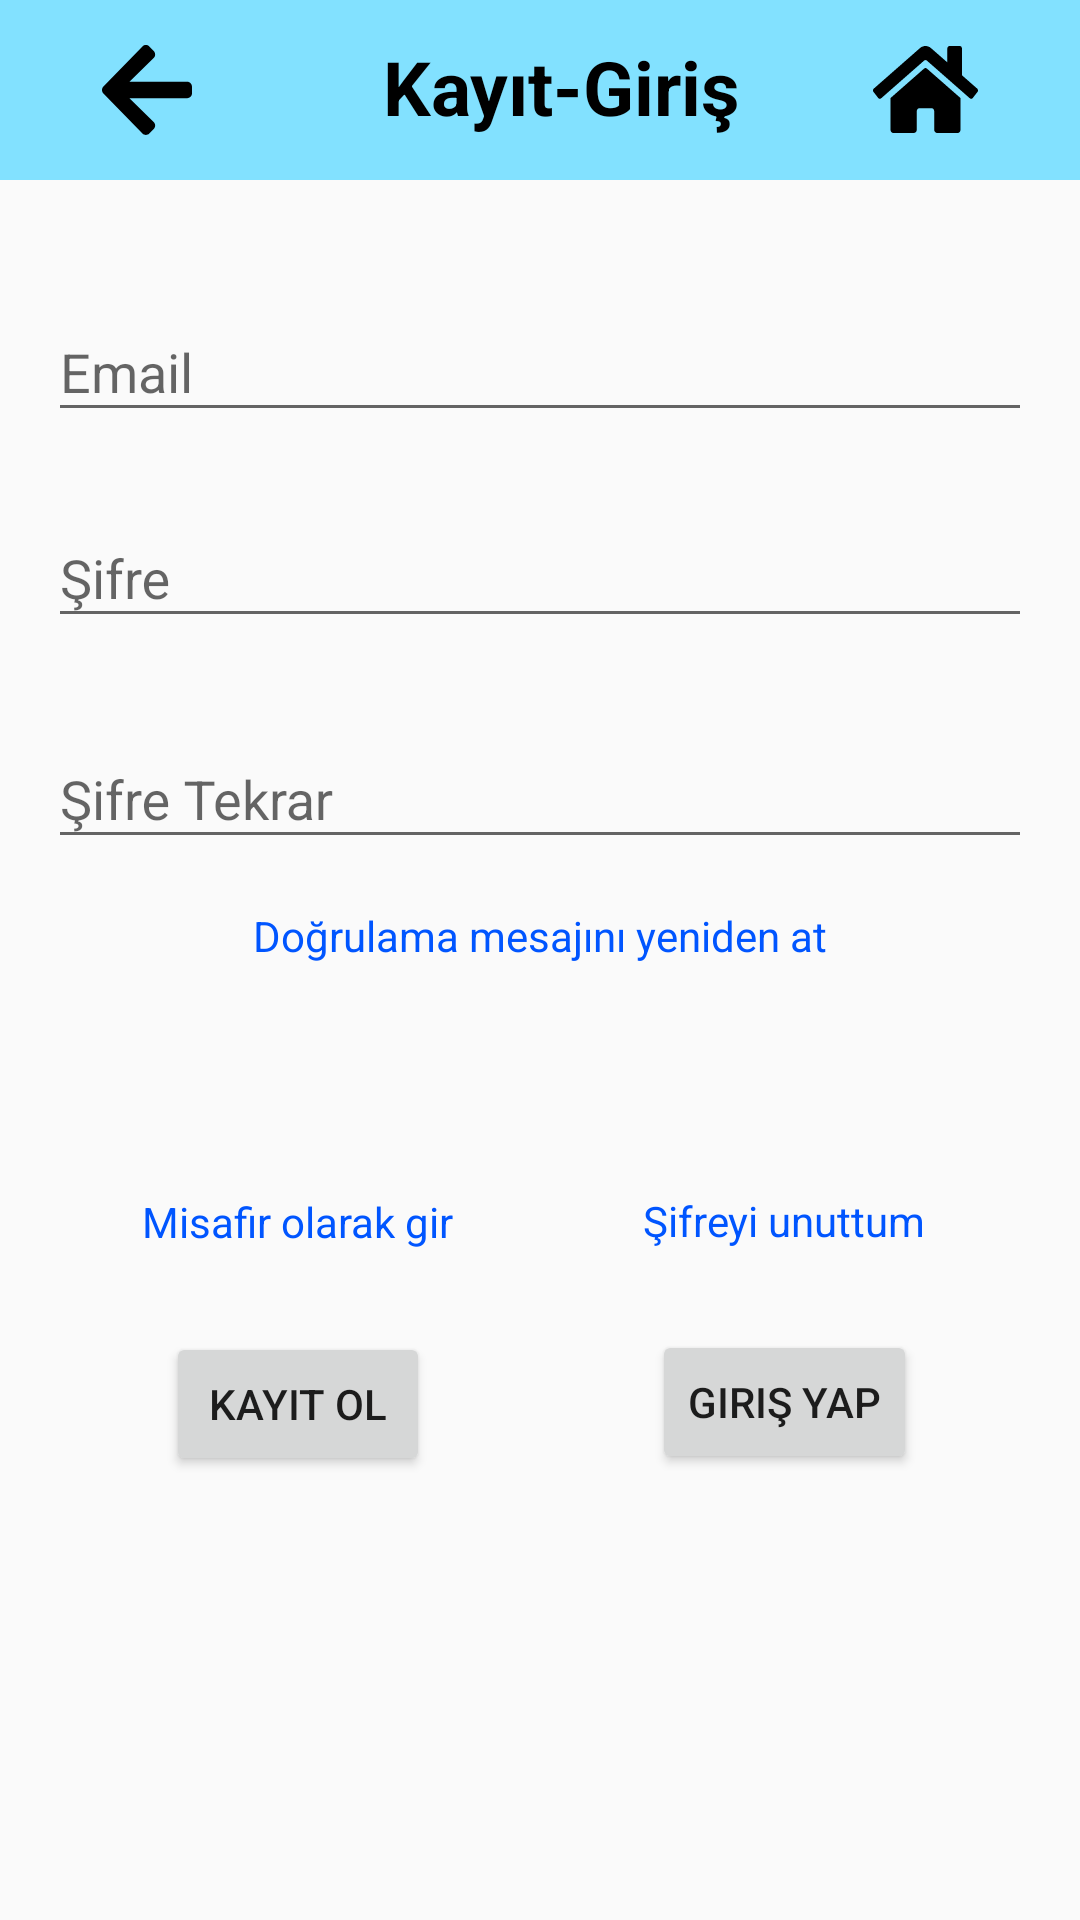

Screen size 1080*1920. Icon name, then its box in pixels as (x1, y1, x2, y2):
back: (102, 45, 192, 135)
home: (873, 46, 978, 133)
